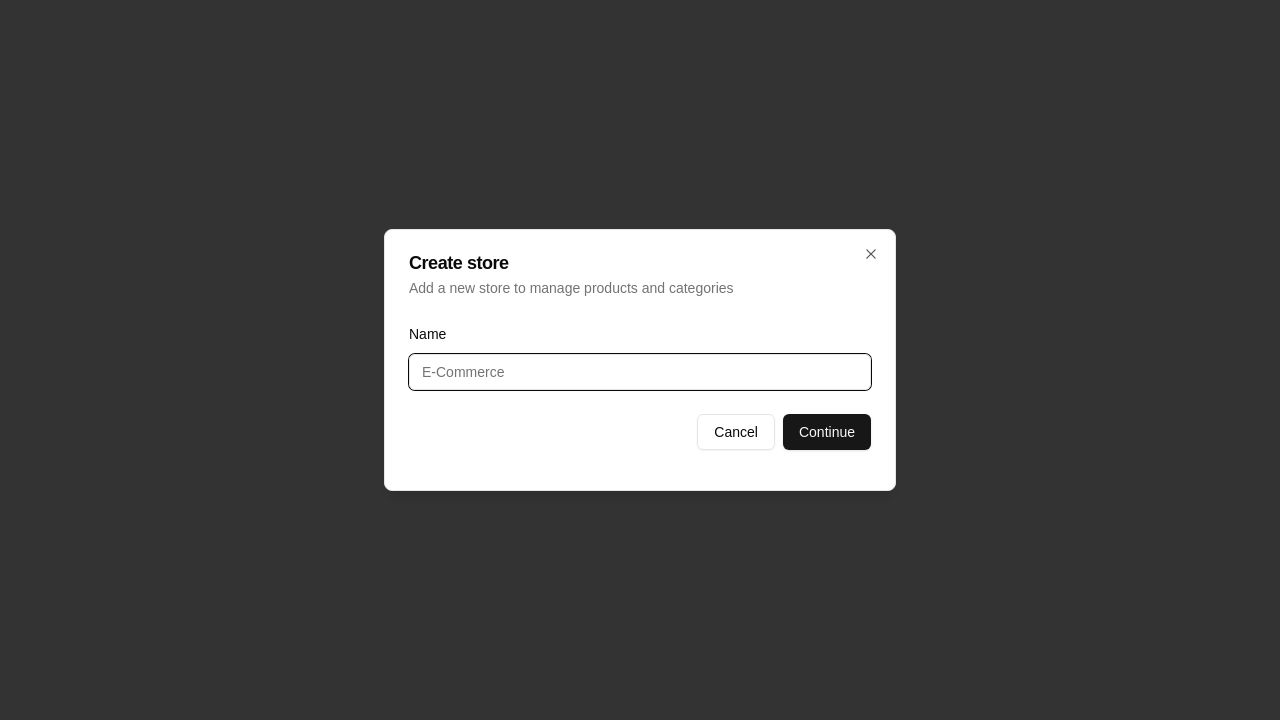
Test case: StoreModal › displays validation error when form is submitted empty
Click the button "Continue".
click(827, 432)  # box [783,414,871,450]
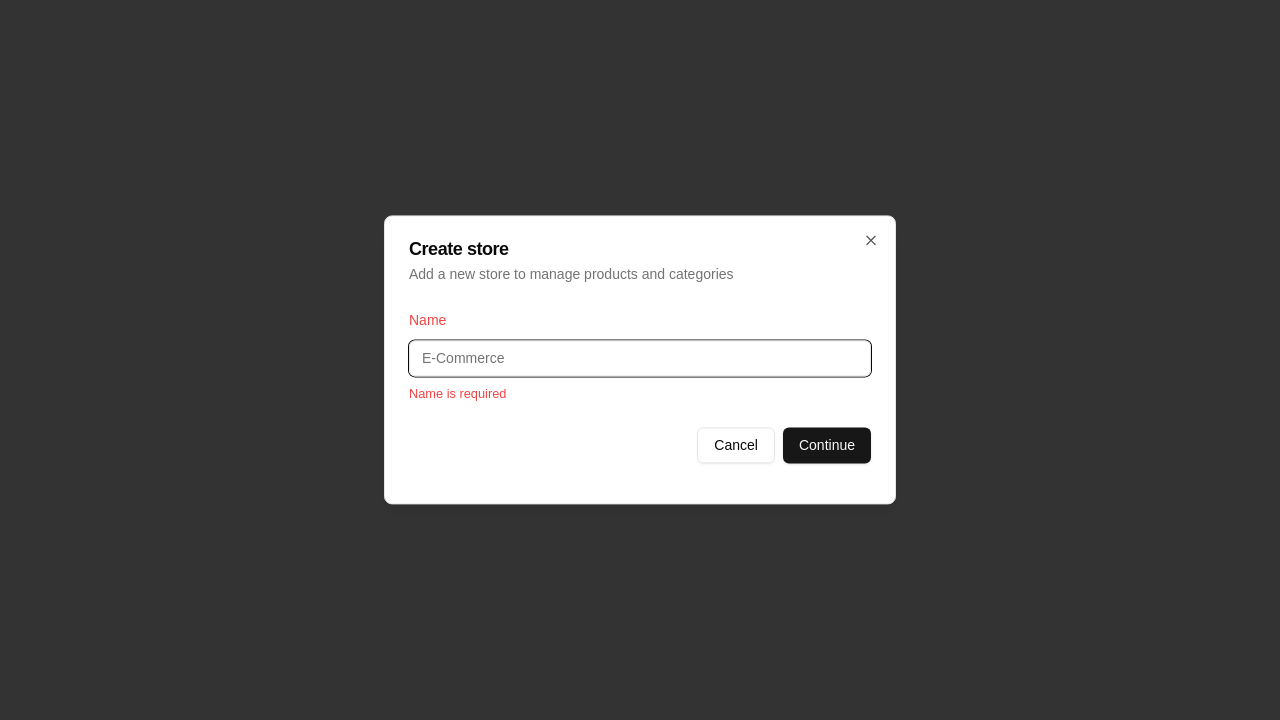
Expected: the text "Name is required" is shown, [409,386,506,401]
